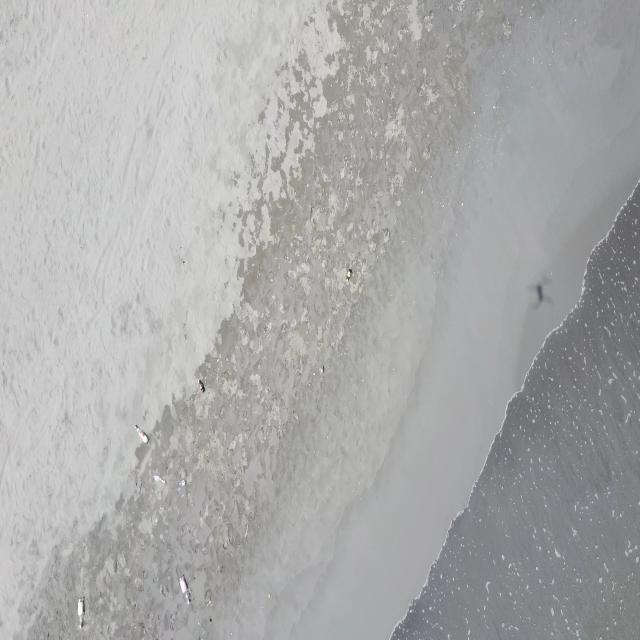glass: (179, 574, 191, 606), (134, 425, 149, 443), (77, 598, 85, 630), (153, 473, 167, 485), (199, 381, 207, 393), (346, 268, 352, 282), (179, 478, 187, 487), (320, 364, 324, 374)
